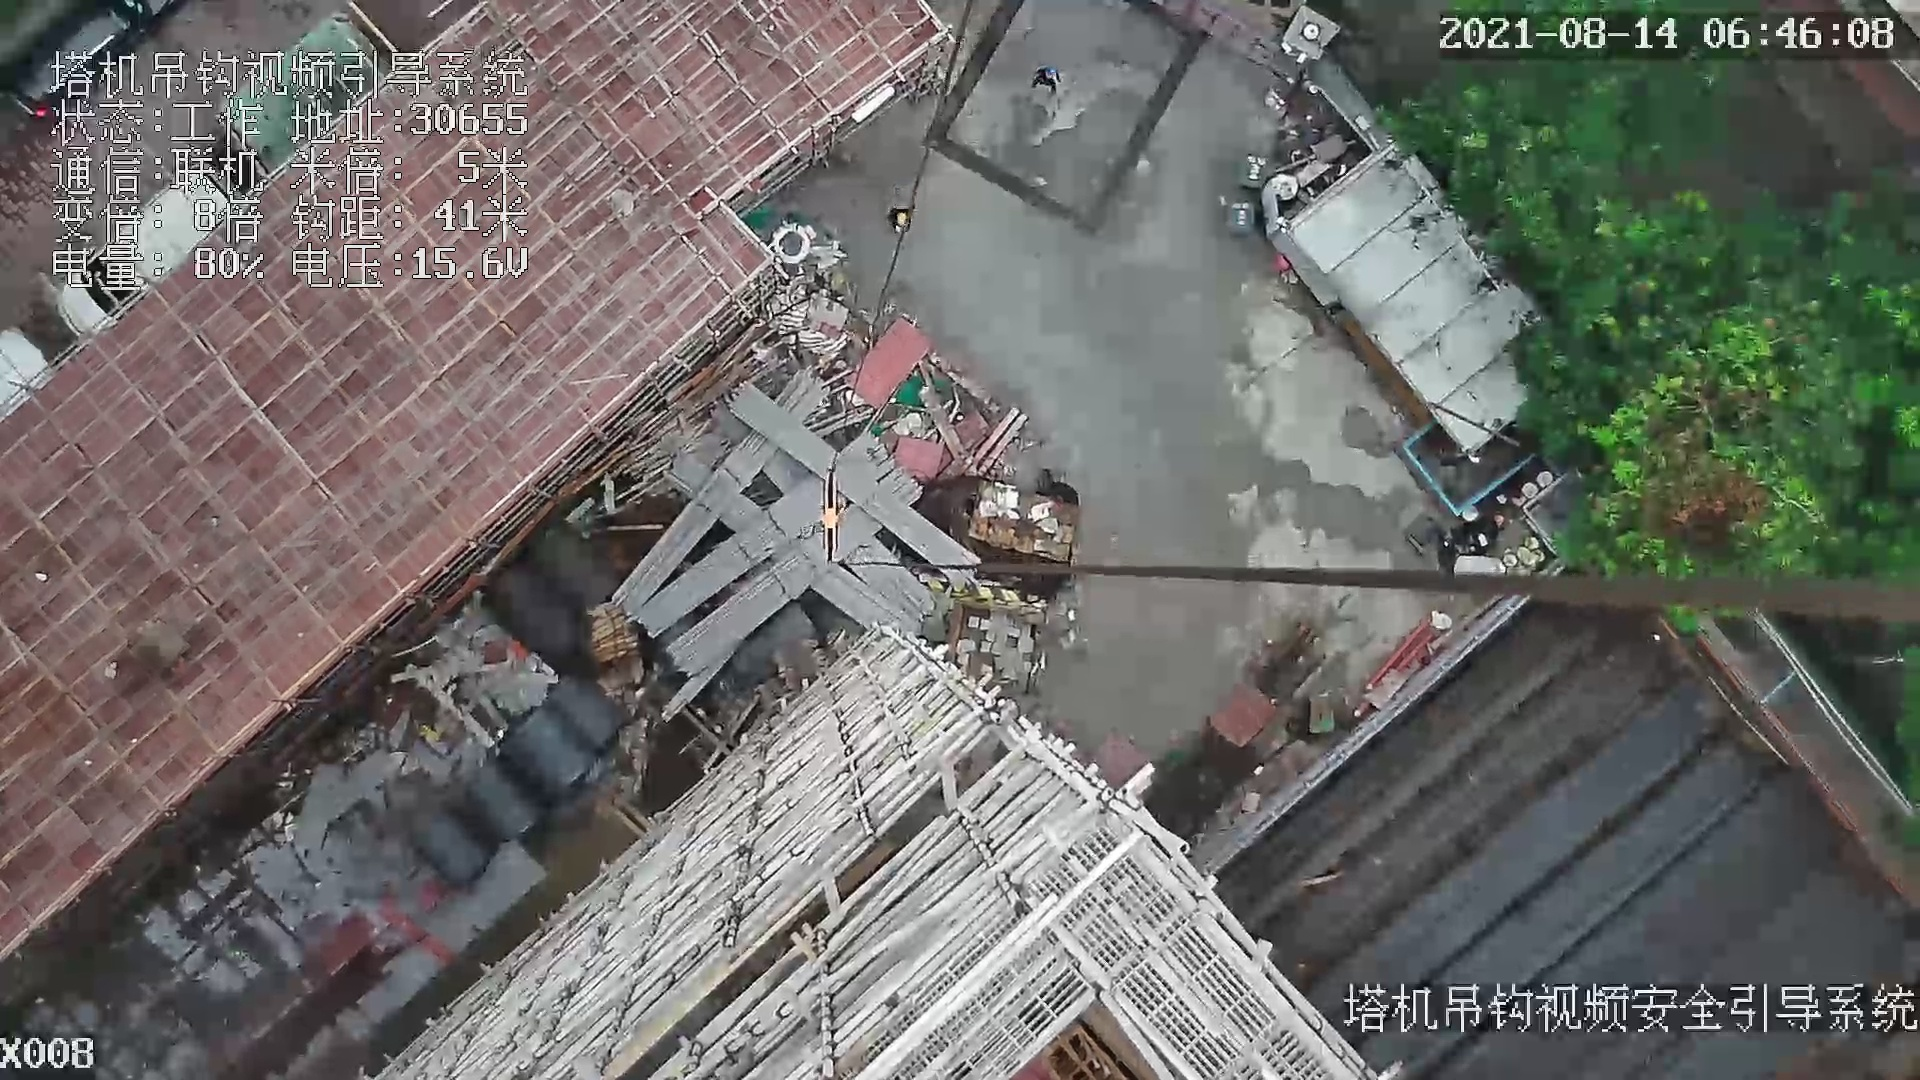helmet: (897, 214, 907, 226)
hook: (823, 467, 850, 567)
hopper: (1393, 408, 1544, 524)
person: (1027, 65, 1070, 105), (881, 200, 923, 232)
